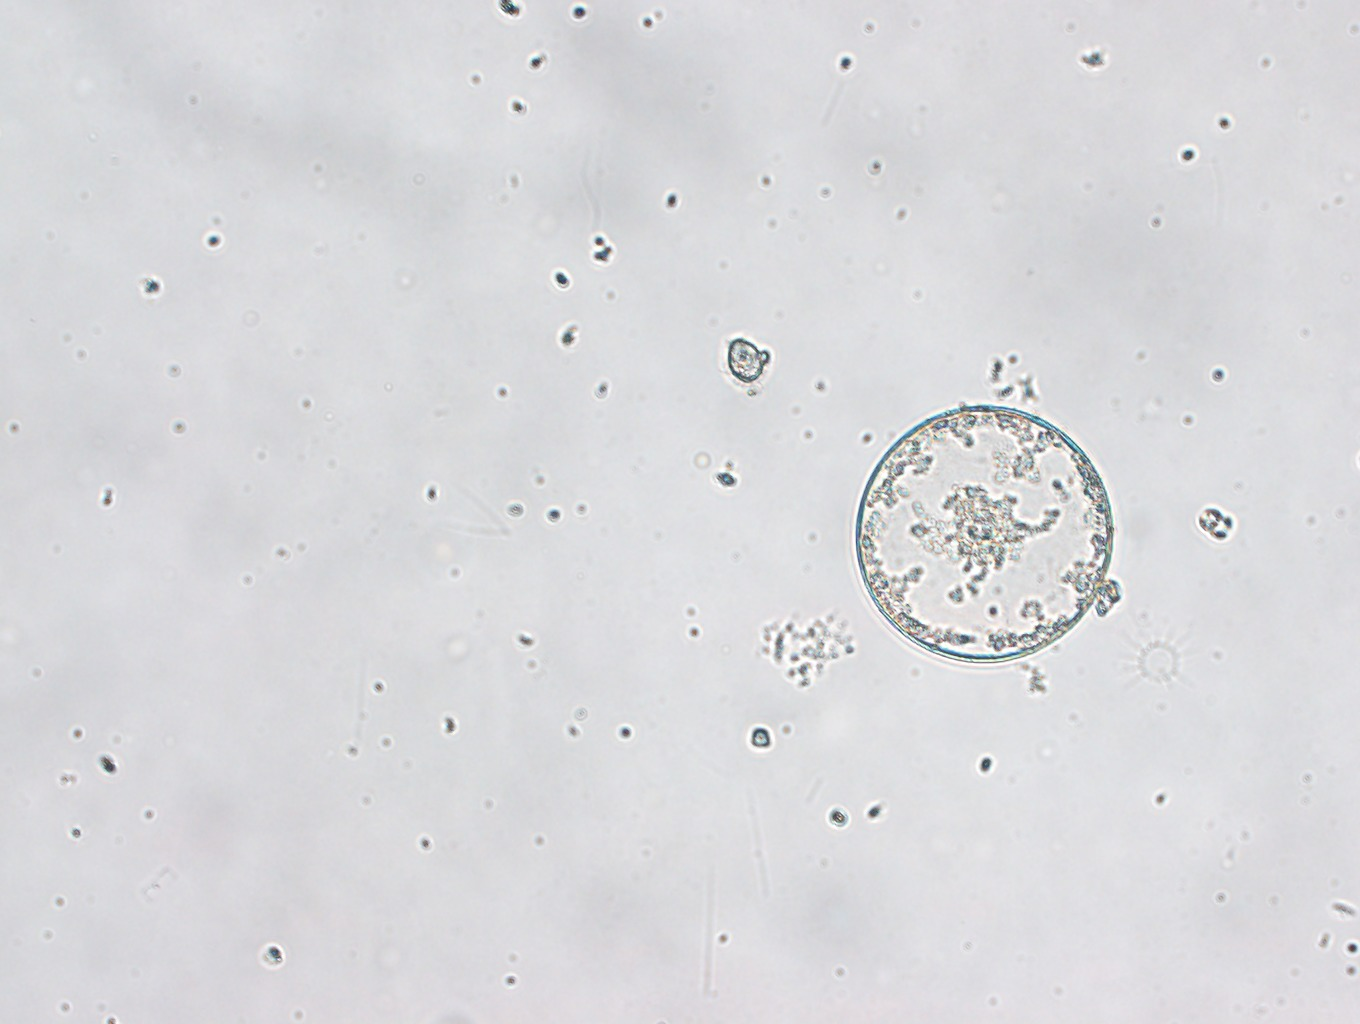coscinodiscus: (851, 402, 1118, 672)
